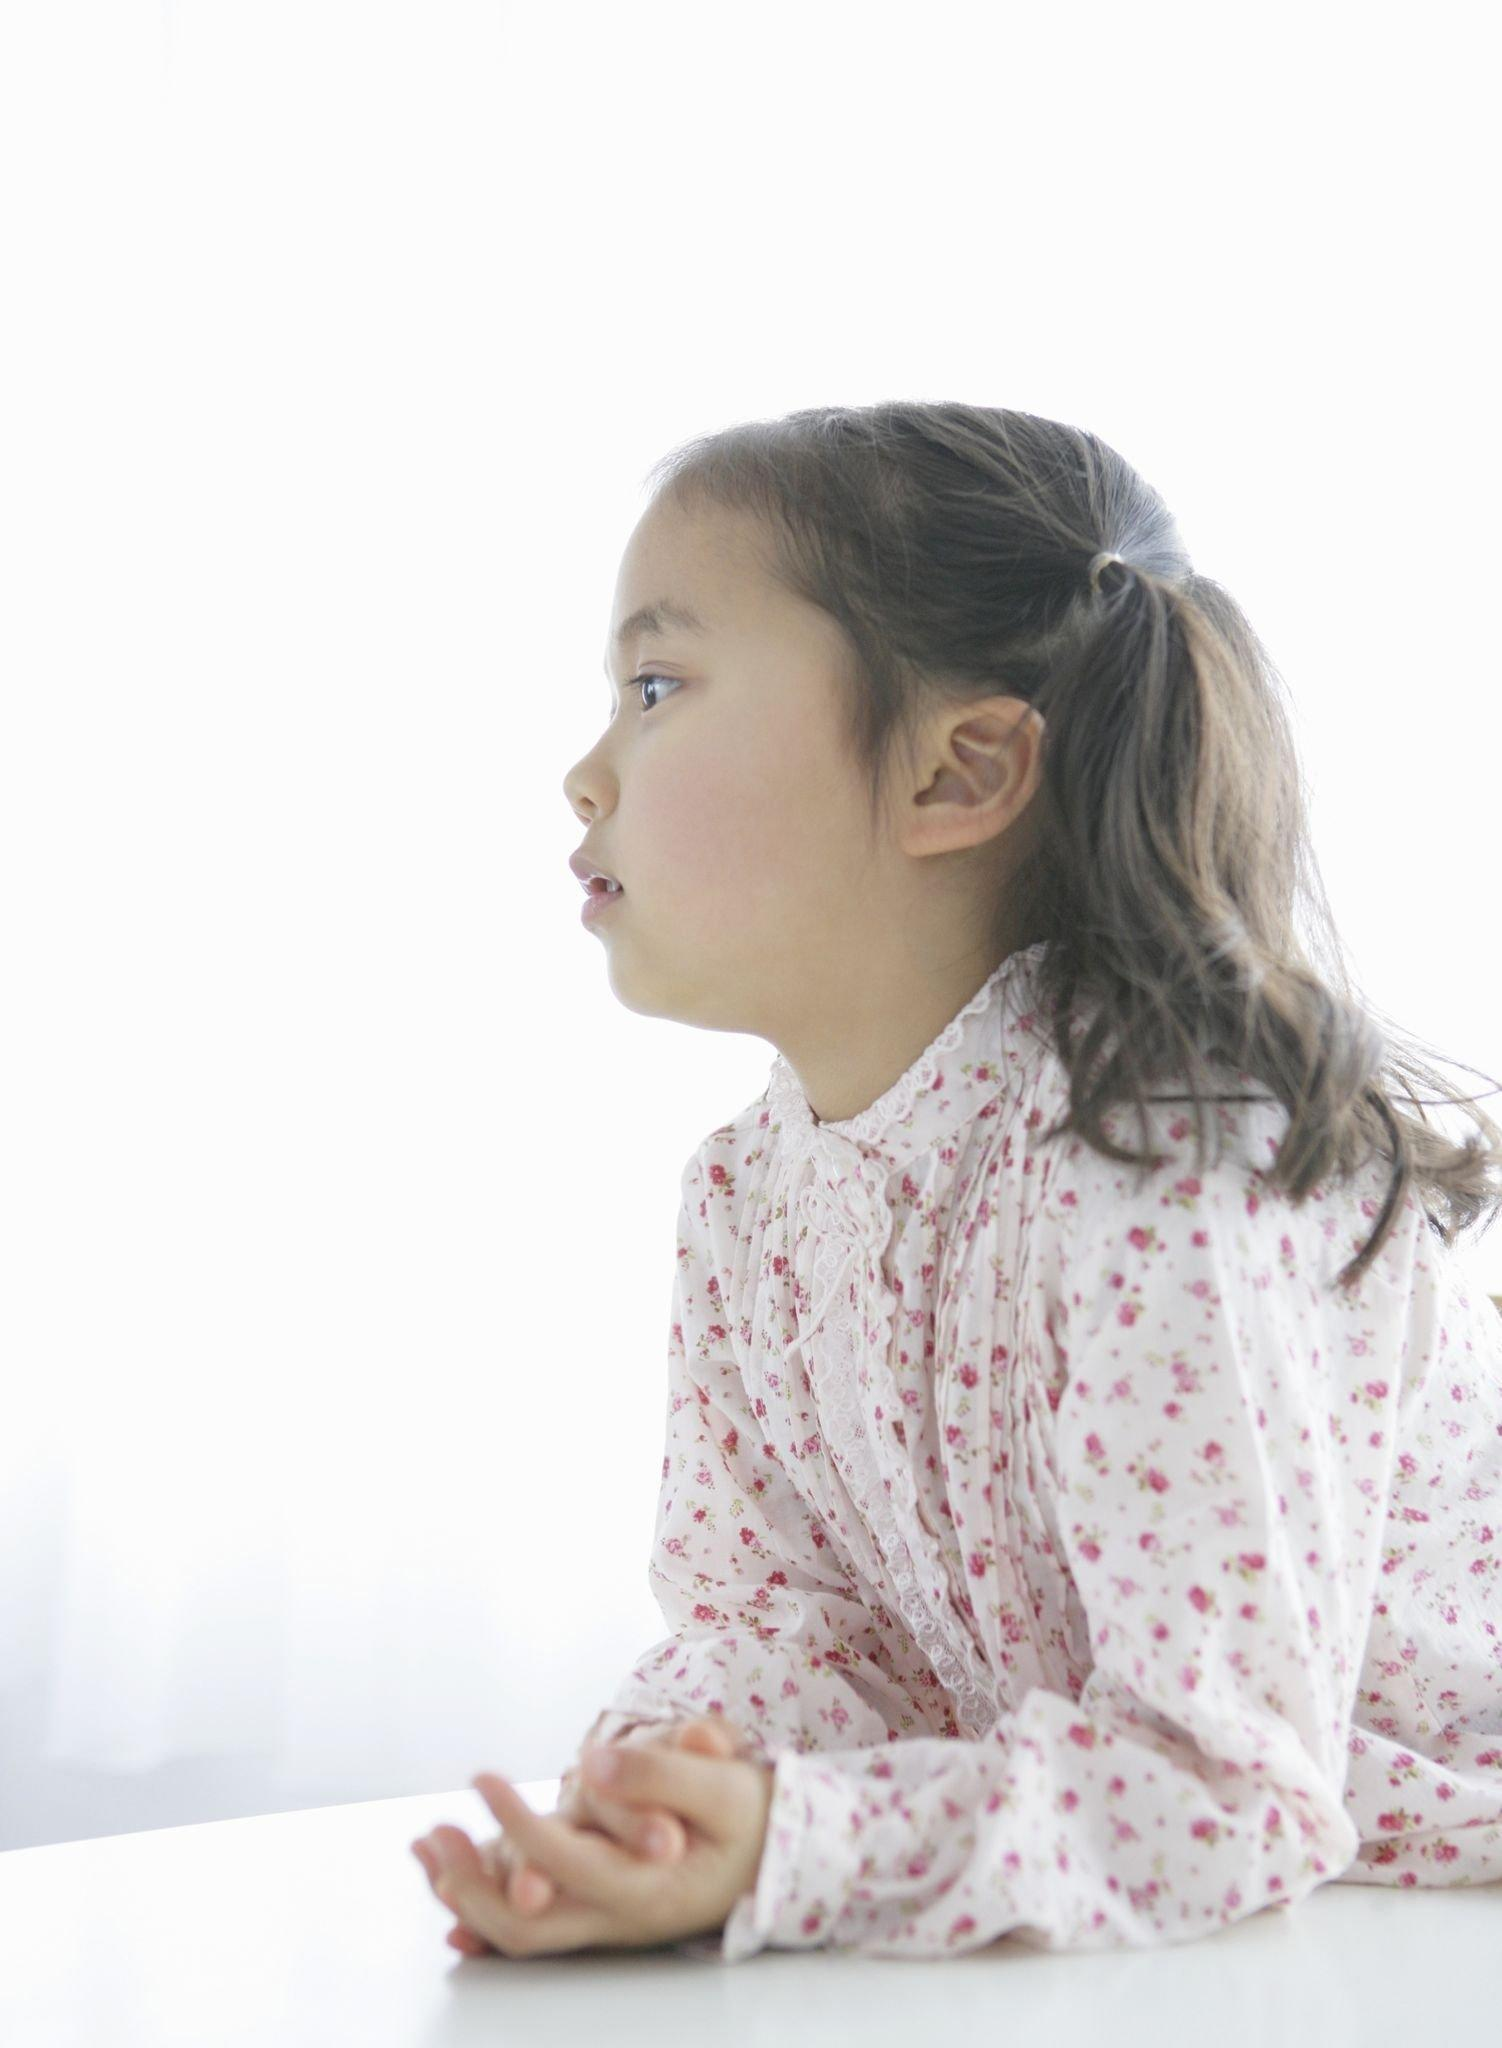Healthy: (537, 436, 1070, 1076)
